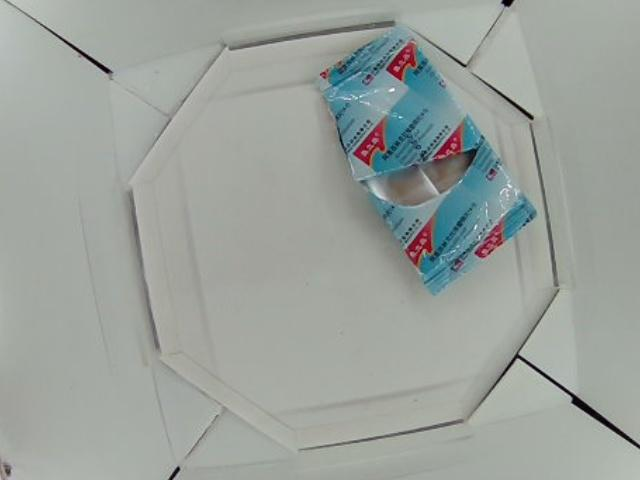Medicine: (319, 30, 539, 299)
